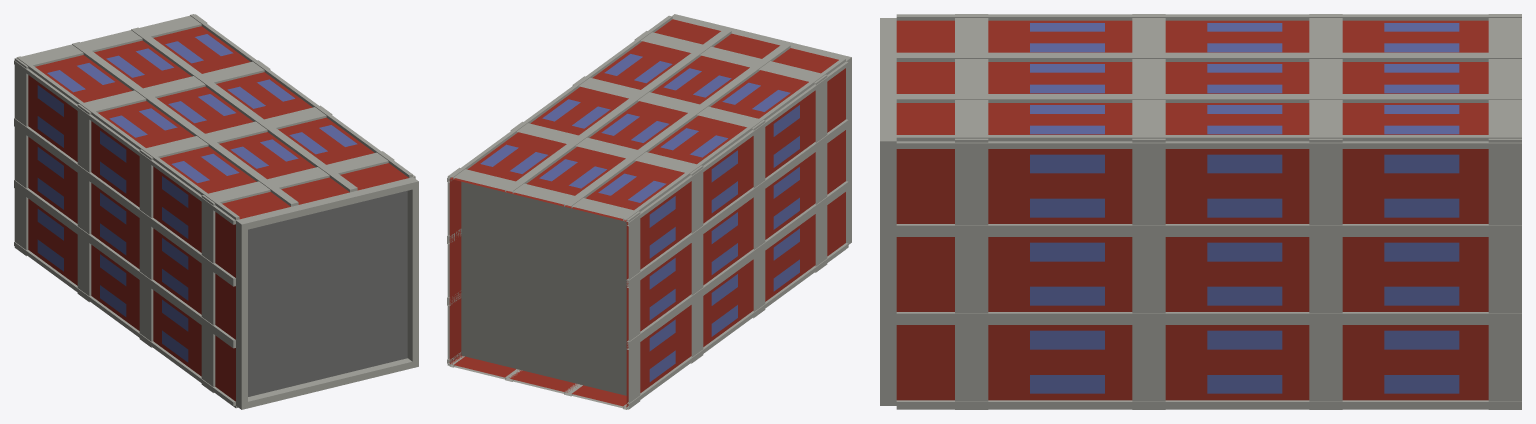
File: construction_2.glb
3 views of the same model, side by side, from view 1: azimuth 30°, elevation 25°; view 2: azimuth 150°, elevation 25°; view 3: azimuth 270°, elevation 25° (orthographic). The views are drawn at different scales.
Visible parts, largest first — view 1: construction_2; view 2: construction_2; view 3: construction_2.
Part boxes in pixels (bbox=[...]): construction_2: bbox=[14, 14, 418, 409]; construction_2: bbox=[447, 14, 851, 409]; construction_2: bbox=[880, 14, 1521, 409].
Size of the model in its own units: 14.4 by 14.4 by 30.8.
